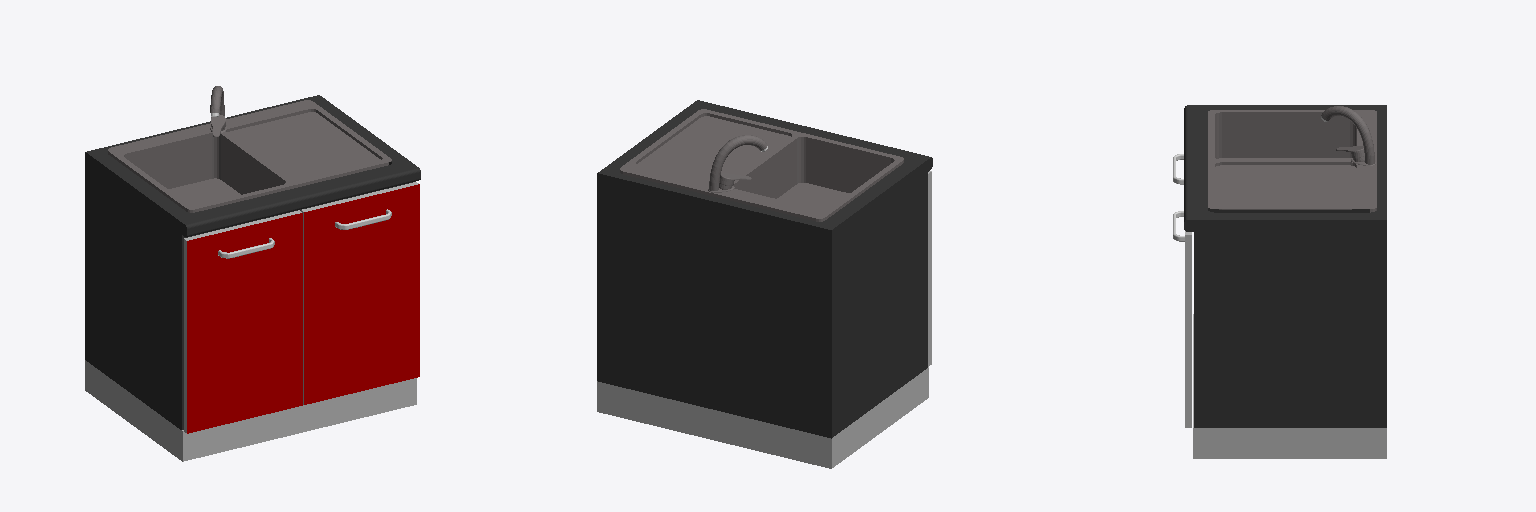
The model's file is sink.obj.
The picture shows the model from 3 angles: view 1: azimuth 30°, elevation 25°; view 2: azimuth 150°, elevation 25°; view 3: azimuth 270°, elevation 25°; orthographic projection.
Parts seen in each view (by area): view 1: Box282_7, Box272_4, Rectangle11_11, Rectangle10_12, Box30_10, Line50_9, Box273_5; view 2: Rectangle11_11, Rectangle10_12, Box30_10, Line50_9, Loft02_13, Box273_5; view 3: Rectangle11_11, Rectangle10_12, Line50_9, Box30_10, Box283_8, Loft02_13.
Boxes of the visible parts, <box> form: Box282_7: <box>304,184,419,404</box>; Box272_4: <box>187,213,302,433</box>; Rectangle11_11: <box>85,164,415,429</box>; Rectangle10_12: <box>108,100,391,212</box>; Box30_10: <box>85,360,416,461</box>; Line50_9: <box>85,95,420,236</box>; Box273_5: <box>184,239,186,432</box>; Rectangle11_11: <box>597,172,927,438</box>; Rectangle10_12: <box>620,109,903,221</box>; Box30_10: <box>597,367,928,468</box>; Line50_9: <box>597,100,932,242</box>; Loft02_13: <box>709,135,767,190</box>; Box273_5: <box>928,172,931,366</box>; Rectangle11_11: <box>1194,208,1386,427</box>; Rectangle10_12: <box>1208,110,1376,212</box>; Line50_9: <box>1184,105,1386,231</box>; Box30_10: <box>1193,314,1386,458</box>; Box283_8: <box>1185,235,1191,427</box>; Loft02_13: <box>1321,106,1374,164</box>.
Size of the model in its own units: 80 by 94.97 by 63.38.